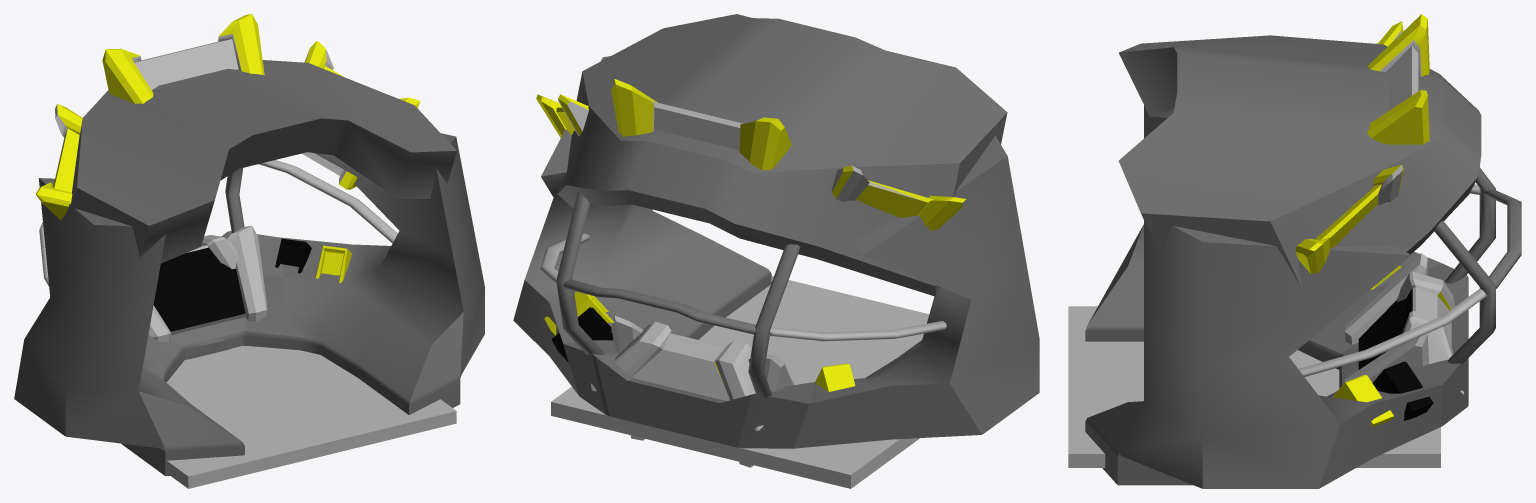
Rendered from Cockpit.fbx.
3 views of the same model, side by side, from view 1: azimuth 30°, elevation 25°; view 2: azimuth 150°, elevation 25°; view 3: azimuth 270°, elevation 25° (orthographic). The views are drawn at different scales.
Visible parts, largest first — view 1: pCube15; view 2: pCube15; view 3: pCube15.
Part boxes in pixels (x1,y1,x2,y2): pCube15: (14,14,484,488); pCube15: (513,14,1039,488); pCube15: (1068,14,1521,488).
Size of the model in its own units: 18.57 by 13.27 by 15.39.
